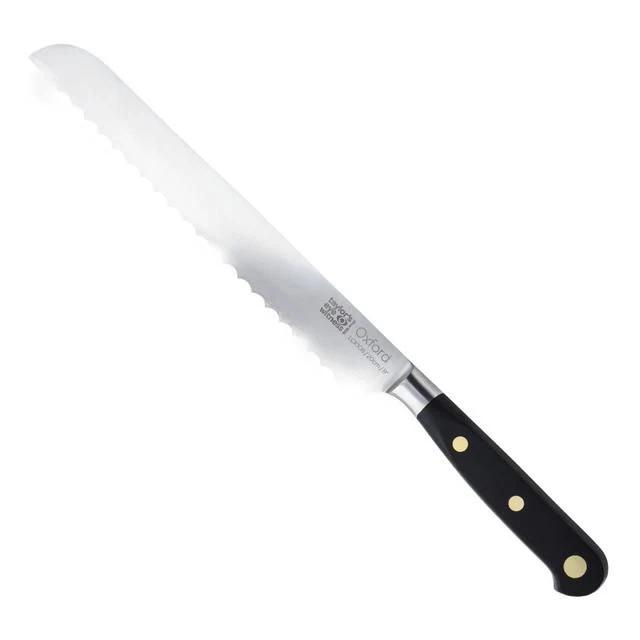Knife: (31, 45, 607, 595)
